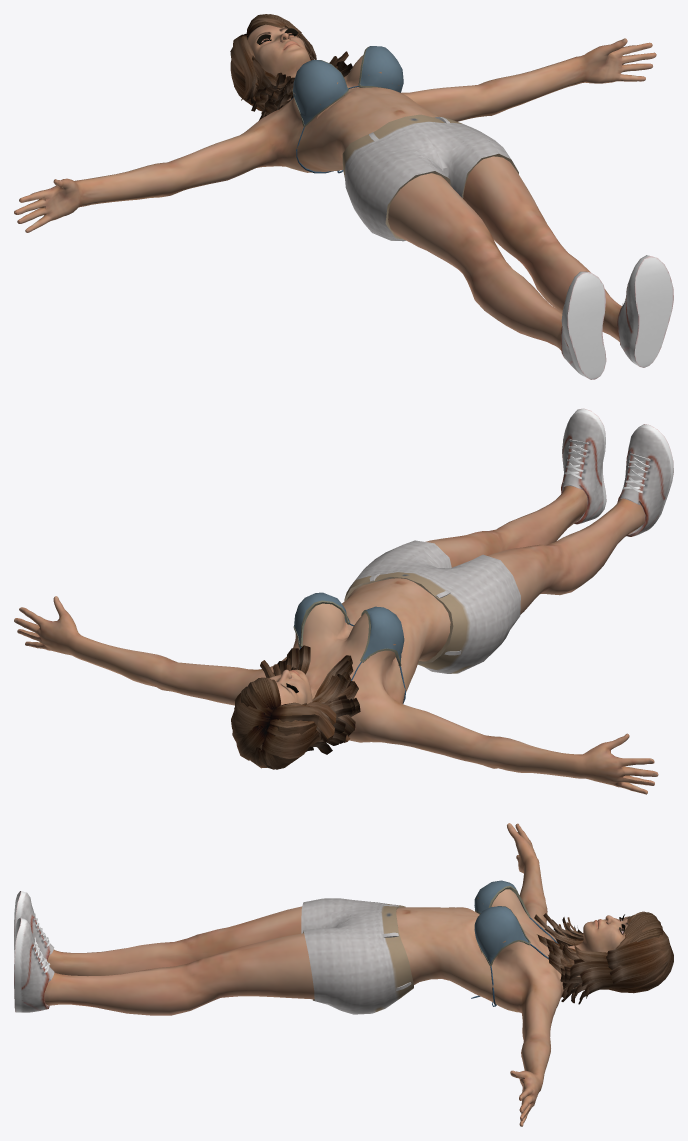
The model's file is emmy.fbx.
3 renders of one model, top to bottom at view 1: azimuth 30°, elevation 25°; view 2: azimuth 150°, elevation 25°; view 3: azimuth 270°, elevation 25°, orthographic. The views are drawn at different scales.
Parts seen in each view (by area): view 1: polySurface1; view 2: polySurface1; view 3: polySurface1.
Part boxes in pixels (x1,y1,x2,y2): polySurface1: (14, 14, 673, 379); polySurface1: (14, 408, 673, 794); polySurface1: (14, 823, 673, 1126).
Bounding box in the file's own units: 1792 × 322 × 1794.
1 material, 1 textured.
